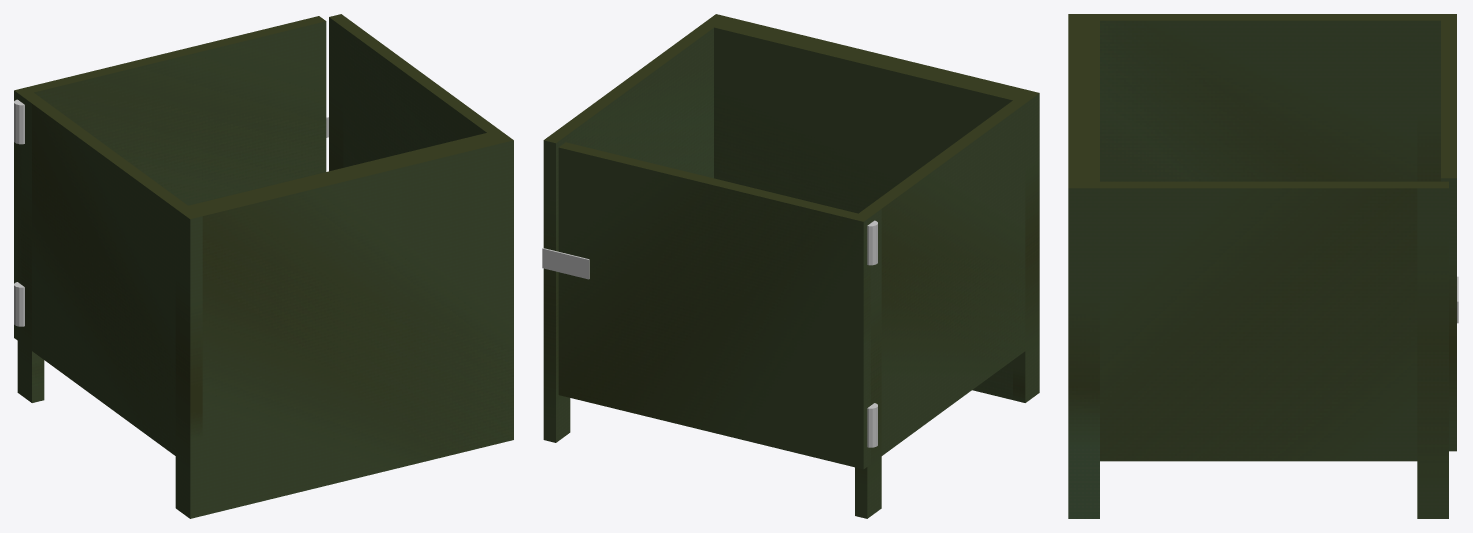
Rendered from stallclosed.gltf.
3 views of the same model, side by side, from view 1: azimuth 30°, elevation 25°; view 2: azimuth 150°, elevation 25°; view 3: azimuth 270°, elevation 25° (orthographic). The views are drawn at different scales.
Parts seen in each view (by area): view 1: cube (×7); view 2: cube (×8); view 3: cube (×6).
Boxes of the visible parts, x1,y1,x2,y2 form: cube (×7): [14, 14, 513, 518]; cube (×8): [542, 14, 1039, 518]; cube (×6): [1068, 14, 1456, 518].
Bounding box in the file's own units: 3.31 × 2.88 × 3.08.
Materials: 1 (1 with a texture image).
